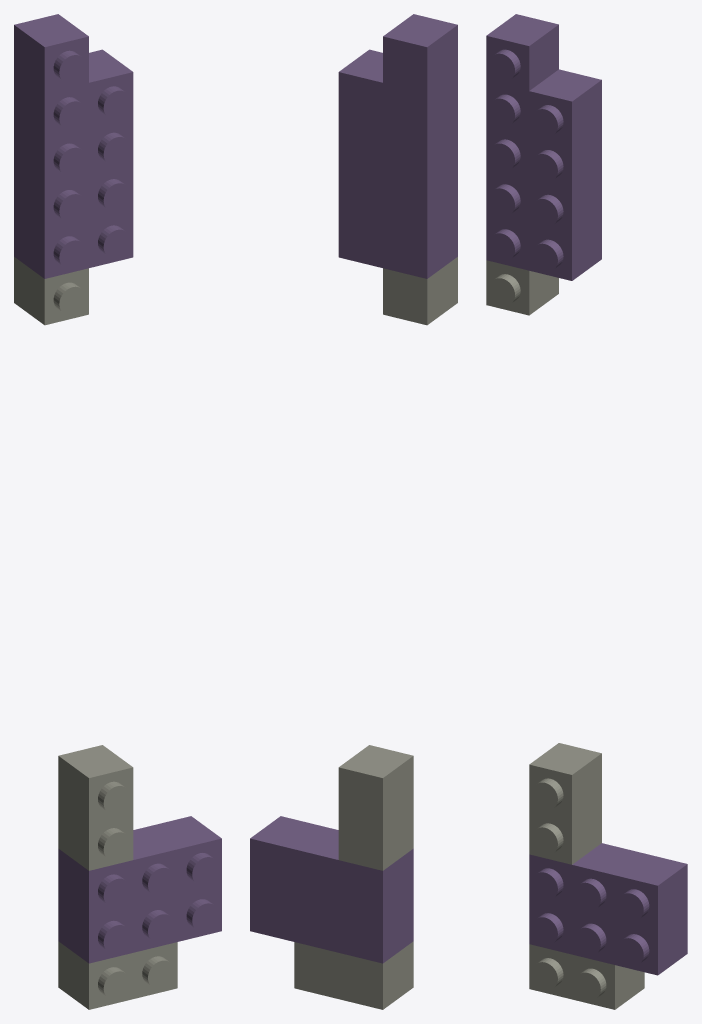
The model's file is current.glb.
The picture shows the model from 3 angles, left to right: view 1: azimuth 30°, elevation 25°; view 2: azimuth 150°, elevation 25°; view 3: azimuth 330°, elevation 25°; orthographic projection. The views are drawn at different scales.
Parts seen in each view (by area): view 1: world; view 2: world; view 3: world.
Part boxes in pixels (x1,y1,x2,y2): world: (14, 14, 221, 1009); world: (250, 14, 457, 1009); world: (486, 14, 687, 1009).
Size of the model in its own units: 32 by 168 by 11.4.
